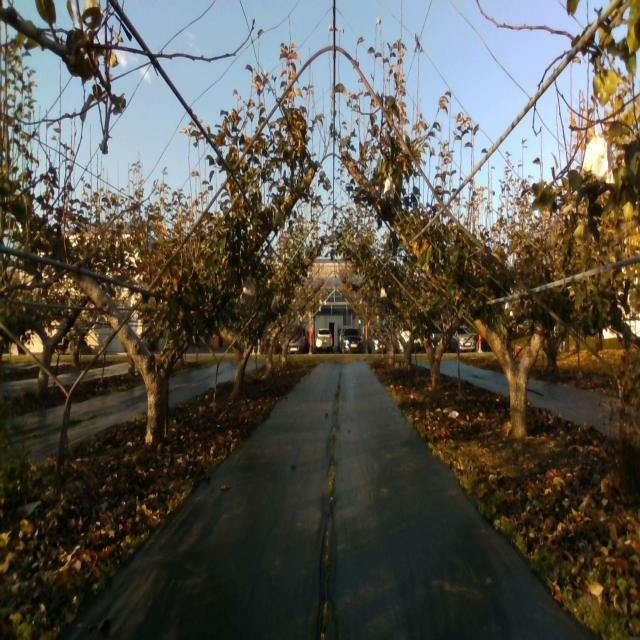pearbags: (583, 132, 615, 185), (384, 175, 394, 199)
